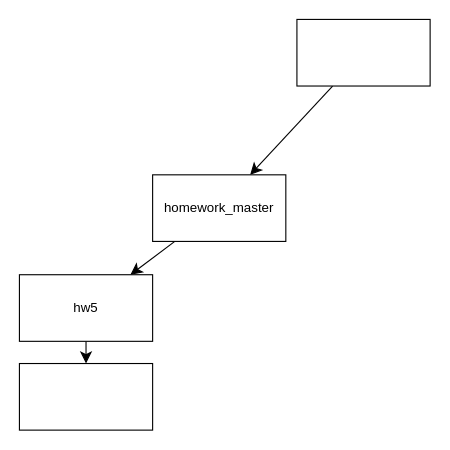
This 450x450 diagram has some shape labels left out. Each missing label, with the centre of its shape:
"homework5.py" goes at (x=85, y=396).
"∼/python decal fa26" goes at (x=363, y=52).
